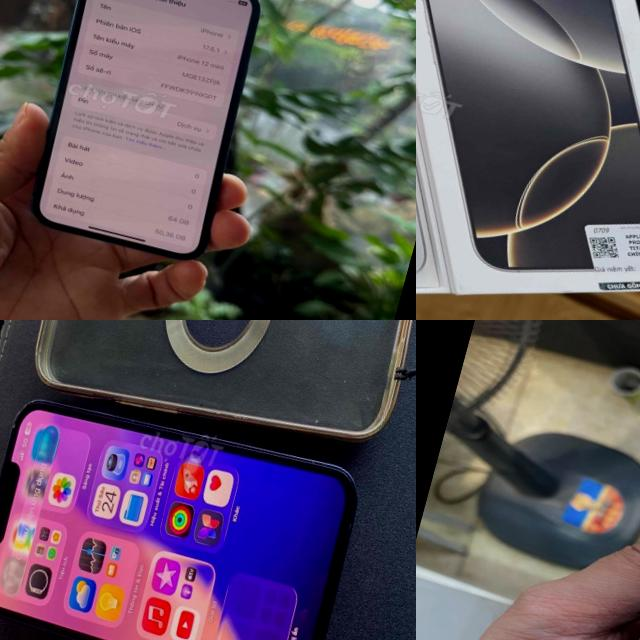scratch: (292, 497, 366, 640), (0, 395, 37, 618)
